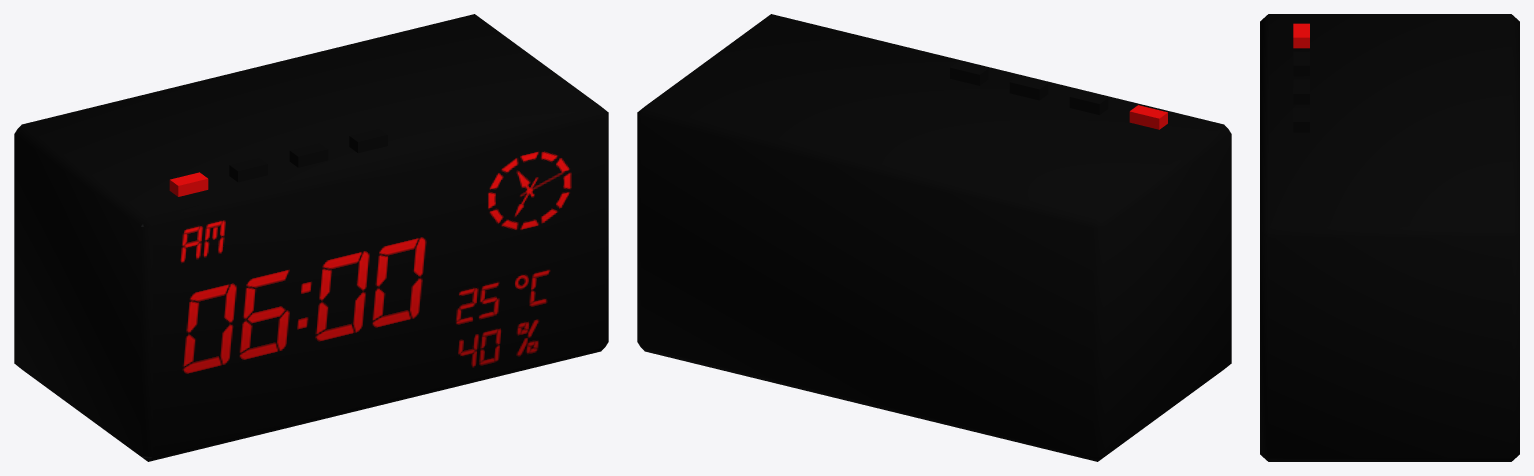
The model's file is Alarm.fbx.
The picture shows the model from 3 angles, left to right: view 1: azimuth 30°, elevation 25°; view 2: azimuth 150°, elevation 25°; view 3: azimuth 270°, elevation 25°; orthographic projection. The views are drawn at different scales.
Visible parts, largest first — view 1: Alarm; view 2: Alarm; view 3: Alarm.
Part boxes in pixels (box(x1,y1,x2,y2)): Alarm: box(14, 14, 608, 461); Alarm: box(637, 14, 1231, 461); Alarm: box(1260, 14, 1519, 461).
Bounding box in the file's own units: 14.3 × 7.47 × 7.15.
